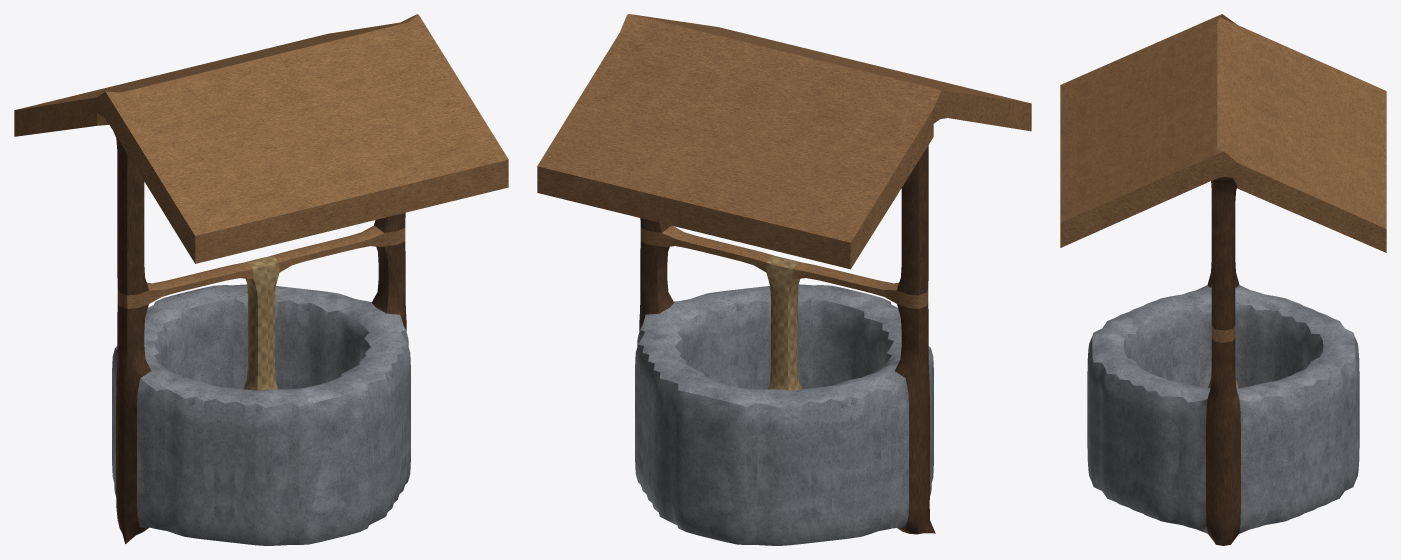
The model's file is prop_well.glb.
3 renders of one model, left to right at view 1: azimuth 30°, elevation 25°; view 2: azimuth 150°, elevation 25°; view 3: azimuth 270°, elevation 25°, orthographic. The views are drawn at different scales.
Parts seen in each view (by area): view 1: wilds_prop_well; view 2: wilds_prop_well; view 3: wilds_prop_well.
Part boxes in pixels (box(x1,y1,x2,y2)): wilds_prop_well: box(14, 14, 508, 545); wilds_prop_well: box(537, 14, 1031, 545); wilds_prop_well: box(1060, 14, 1386, 545).
Size of the model in its own units: 1.73 by 2.37 by 1.73.
Materials: 1 (1 with a texture image).
